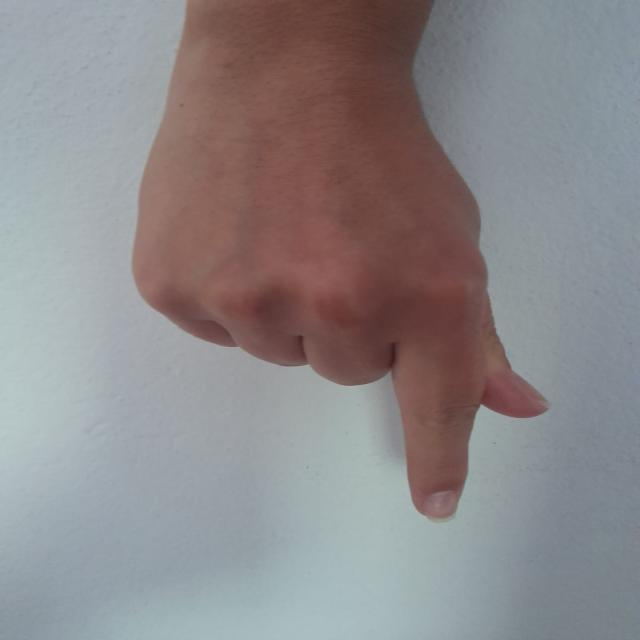Q: (115, 70, 557, 524)
